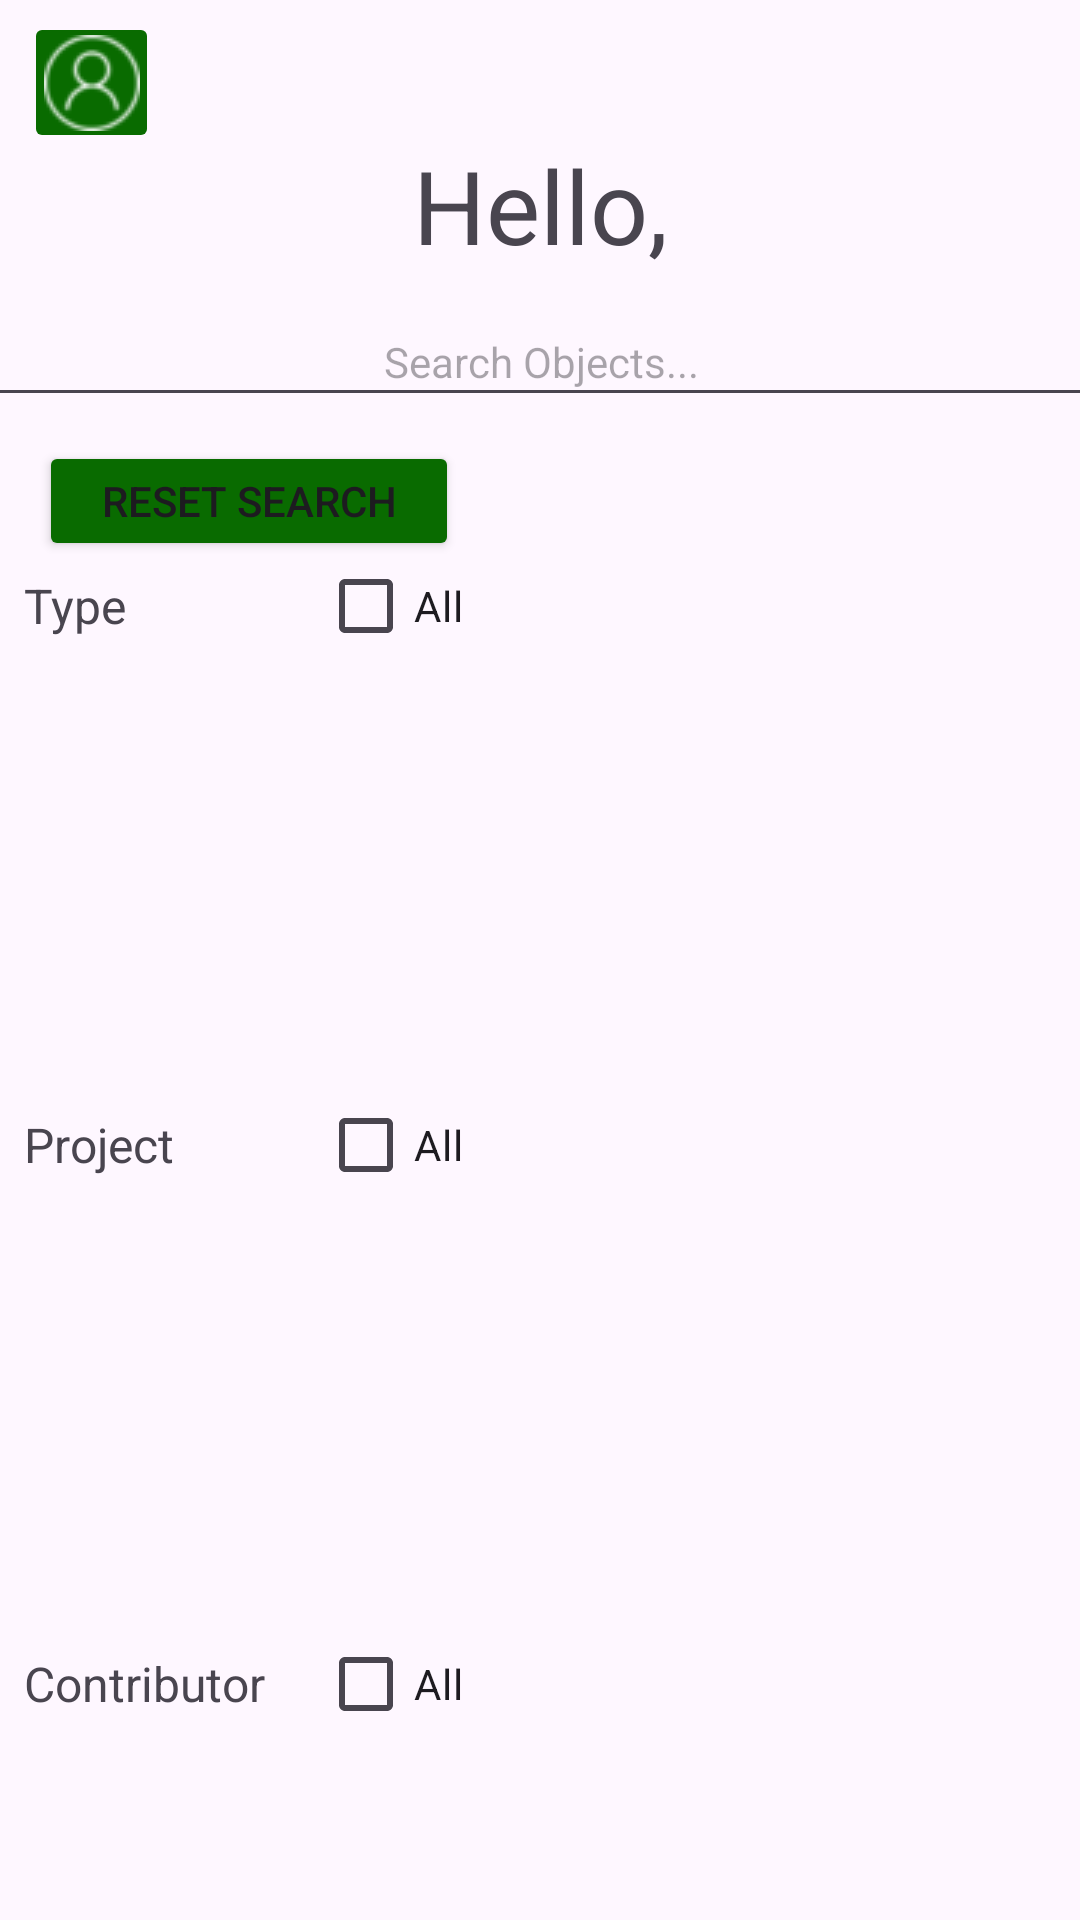

Screen size 1080×1920. Icon name, then its box in pixels as [left=x1, top=y1, right=x2, bottom=y2]:
account: [left=36, top=30, right=147, bottom=135]
